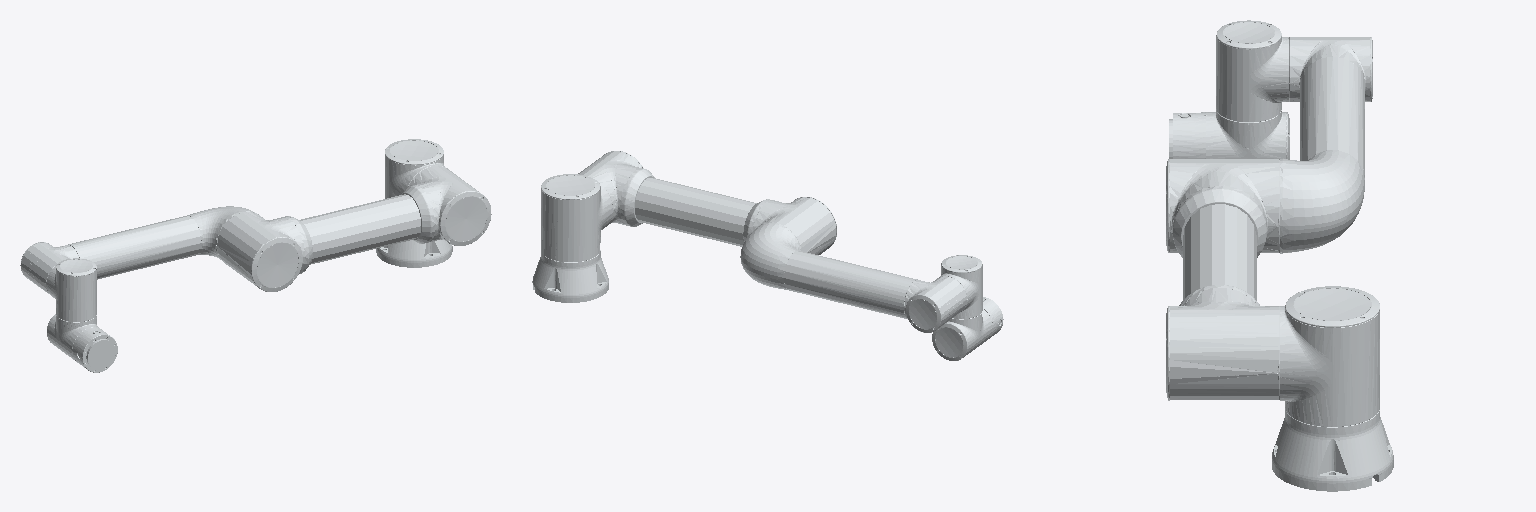
URDF robot description (fairino5_v6_robot):

<!-- This URDF was automatically created by SolidWorks to URDF Exporter! Originally created by [author] ([email redacted]) 
     Commit Version: 1.5.1-0-g916b5db  Build Version: 1.5.7152.31018
     For more information, please see http://wiki.ros.org/sw_urdf_exporter -->
<robot
  name="fairino5_v6_robot">
  <link
    name="base_link">
    <inertial>
      <origin
        xyz="-0.00031896 -0.00029673 0.042463"
        rpy="0 0 0" />
      <mass
        value="1.6185" />
      <inertia
        ixx="0.0030836"
        ixy="1.5354E-05"
        ixz="-1.9315E-05"
        iyy="0.0030825"
        iyz="-1.7918E-05"
        izz="0.0045209" />
    </inertial>
    <visual>
      <origin
        xyz="0 0 0"
        rpy="0 0 0" />
      <geometry>
        <mesh
          filename="package://fairino_description/meshes/fairino5_v6/base_link.STL" />
      </geometry>
      <material
        name="">
        <color
          rgba="0.89804 0.91765 0.92941 1" />
      </material>
    </visual>
    <collision>
      <origin
        xyz="0 0 0"
        rpy="0 0 0" />
      <geometry>
        <mesh
          filename="package://fairino_description/meshes/fairino5_v6/base_link.STL" />
      </geometry>
    </collision>
  </link>
  <link
    name="shoulder_link">
    <inertial>
      <origin
        xyz="5.0029E-07 -0.0040922 0.14629"
        rpy="0 0 0" />
      <mass
        value="4.3771" />
      <inertia
        ixx="0.010731"
        ixy="-8.0587E-09"
        ixz="-3.6773E-08"
        iyy="0.010408"
        iyz="0.00012853"
        izz="0.0081793" />
    </inertial>
    <visual>
      <origin
        xyz="0 0 0"
        rpy="0 0 0" />
      <geometry>
        <mesh
          filename="package://fairino_description/meshes/fairino5_v6/shoulder_link.STL" />
      </geometry>
      <material
        name="">
        <color
          rgba="0.89804 0.91765 0.92941 1" />
      </material>
    </visual>
    <collision>
      <origin
        xyz="0 0 0"
        rpy="0 0 0" />
      <geometry>
        <mesh
          filename="package://fairino_description/meshes/fairino5_v6/shoulder_link.STL" />
      </geometry>
    </collision>
  </link>
  <joint
    name="j1"
    type="revolute">
    <origin
      xyz="0 0 0"
      rpy="0 0 0" />
    <parent
      link="base_link" />
    <child
      link="shoulder_link" />
    <axis
      xyz="0 0 1" />
    <limit
      lower="-3.0543"
      upper="3.0543"
      effort="150"
      velocity="3.15" />
    <calibration
      rising="0"
      falling="0" />
    <dynamics
      damping="0"
      friction="0" />
    <safety_controller
      soft_lower_limit="-3.0543"
      soft_upper_limit="3.0543"
      k_position="15"
      k_velocity="10" />
  </joint>
  <link
    name="upperarm_link">
    <inertial>
      <origin
        xyz="-0.2125 -5.7643E-09 0.1346"
        rpy="0 0 0" />
      <mass
        value="14.458" />
      <inertia
        ixx="0.028392"
        ixy="-1.337E-07"
        ixz="-3.9895E-09"
        iyy="0.4559"
        iyz="4.214E-08"
        izz="0.44974" />
    </inertial>
    <visual>
      <origin
        xyz="0 0 0"
        rpy="0 0 0" />
      <geometry>
        <mesh
          filename="package://fairino_description/meshes/fairino5_v6/upperarm_link.STL" />
      </geometry>
      <material
        name="">
        <color
          rgba="0.89804 0.91765 0.92941 1" />
      </material>
    </visual>
    <collision>
      <origin
        xyz="0 0 0"
        rpy="0 0 0" />
      <geometry>
        <mesh
          filename="package://fairino_description/meshes/fairino5_v6/upperarm_link.STL" />
      </geometry>
    </collision>
  </link>
  <joint
    name="j2"
    type="revolute">
    <origin
      xyz="0 0 0.152"
      rpy="1.5708 0 0" />
    <parent
      link="shoulder_link" />
    <child
      link="upperarm_link" />
    <axis
      xyz="0 0 1" />
    <limit
      lower="-4.6251"
      upper="1.4835"
      effort="150"
      velocity="3.15" />
    <calibration
      rising="0"
      falling="0" />
    <dynamics
      damping="0"
      friction="0" />
    <safety_controller
      soft_lower_limit="-4.6251"
      soft_upper_limit="1.4835"
      k_position="15"
      k_velocity="10" />
  </joint>
  <link
    name="forearm_link">
    <inertial>
      <origin
        xyz="-0.18793 -8.4503E-07 0.0066357"
        rpy="0 0 0" />
      <mass
        value="7.6737" />
      <inertia
        ixx="0.0085096"
        ixy="2.1613E-06"
        ixz="-0.0068678"
        iyy="0.16971"
        iyz="3.7086E-08"
        izz="0.16854" />
    </inertial>
    <visual>
      <origin
        xyz="0 0 0"
        rpy="0 0 0" />
      <geometry>
        <mesh
          filename="package://fairino_description/meshes/fairino5_v6/forearm_link.STL" />
      </geometry>
      <material
        name="">
        <color
          rgba="0.89804 0.91765 0.92941 1" />
      </material>
    </visual>
    <collision>
      <origin
        xyz="0 0 0"
        rpy="0 0 0" />
      <geometry>
        <mesh
          filename="package://fairino_description/meshes/fairino5_v6/forearm_link.STL" />
      </geometry>
    </collision>
  </link>
  <joint
    name="j3"
    type="revolute">
    <origin
      xyz="-0.425 0 0"
      rpy="0 0 0" />
    <parent
      link="upperarm_link" />
    <child
      link="forearm_link" />
    <axis
      xyz="0 0 1" />
    <limit
      lower="-2.8274"
      upper="2.8274"
      effort="150"
      velocity="3.15" />
    <calibration
      rising="0"
      falling="0" />
    <dynamics
      damping="0"
      friction="0" />
    <safety_controller
      soft_lower_limit="-2.8274"
      soft_upper_limit="2.8274"
      k_position="15"
      k_velocity="10" />
  </joint>
  <link
    name="wrist1_link">
    <inertial>
      <origin
        xyz="4.98E-07 -0.003754 0.097155"
        rpy="0 0 0" />
      <mass
        value="1.6266" />
      <inertia
        ixx="0.00216"
        ixy="4.888E-09"
        ixz="3.1528E-08"
        iyy="0.0015455"
        iyz="3.7678E-05"
        izz="0.0019902" />
    </inertial>
    <visual>
      <origin
        xyz="0 0 0"
        rpy="0 0 0" />
      <geometry>
        <mesh
          filename="package://fairino_description/meshes/fairino5_v6/wrist1_link.STL" />
      </geometry>
      <material
        name="">
        <color
          rgba="0.89804 0.91765 0.92941 1" />
      </material>
    </visual>
    <collision>
      <origin
        xyz="0 0 0"
        rpy="0 0 0" />
      <geometry>
        <mesh
          filename="package://fairino_description/meshes/fairino5_v6/wrist1_link.STL" />
      </geometry>
    </collision>
  </link>
  <joint
    name="j4"
    type="revolute">
    <origin
      xyz="-0.39501 0 0"
      rpy="0 0 0" />
    <parent
      link="forearm_link" />
    <child
      link="wrist1_link" />
    <axis
      xyz="0 0 1" />
    <limit
      lower="-4.6251"
      upper="1.4835"
      effort="28"
      velocity="3.2" />
    <calibration
      rising="0"
      falling="0" />
    <dynamics
      damping="0"
      friction="0" />
    <safety_controller
      soft_lower_limit="-4.6251"
      soft_upper_limit="1.4835"
      k_position="15"
      k_velocity="10" />
  </joint>
  <link
    name="wrist2_link">
    <inertial>
      <origin
        xyz="-4.5588E-07 0.0038617 0.098257"
        rpy="0 0 0" />
      <mass
        value="1.5812" />
      <inertia
        ixx="0.0020612"
        ixy="8.7064E-09"
        ixz="-3.4742E-08"
        iyy="0.0014477"
        iyz="-2.8534E-05"
        izz="0.0019573" />
    </inertial>
    <visual>
      <origin
        xyz="0 0 0"
        rpy="0 0 0" />
      <geometry>
        <mesh
          filename="package://fairino_description/meshes/fairino5_v6/wrist2_link.STL" />
      </geometry>
      <material
        name="">
        <color
          rgba="0.89804 0.91765 0.92941 1" />
      </material>
    </visual>
    <collision>
      <origins
        xyz="0 0 0"
        rpy="0 0 0" />
      <geometry>
        <mesh
          filename="package://fairino_description/meshes/fairino5_v6/wrist2_link.STL" />
      </geometry>
    </collision>
  </link>
  <joint
    name="j5"
    type="revolute">
    <origin
      xyz="0 0 0.1021"
      rpy="1.5708 0 0" />
    <parent
      link="wrist1_link" />
    <child
      link="wrist2_link" />
    <axis
      xyz="0 0 1" />
    <limit
      lower="-3.0543"
      upper="3.0543"
      effort="28"
      velocity="3.2" />
    <calibration
      rising="0"
      falling="0" />
    <dynamics
      damping="0"
      friction="0" />
    <safety_controller
      soft_lower_limit="-3.0543"
      soft_upper_limit="3.0543"
      k_position="15"
      k_velocity="10" />
  </joint>
  <link
    name="wrist3_link">
    <inertial>
      <origin
        xyz="7.7496E-05 1.7751E-05 0.076122"
        rpy="0 0 0" />
      <mass
        value="0.52542" />
      <inertia
        ixx="0.00027721"
        ixy="-1.8677E-09"
        ixz="-1.188E-07"
        iyy="0.00027839"
        iyz="2.2607E-07"
        izz="0.00041605" />
    </inertial>
    <visual>
      <origin
        xyz="0 0 0"
        rpy="0 0 0" />
      <geometry>
        <mesh
          filename="package://fairino_description/meshes/fairino5_v6/wrist3_link.STL" />
      </geometry>
      <material
        name="">
        <color
          rgba="0.89804 0.91765 0.92941 1" />
      </material>
    </visual>
    <collision>
      <origin
        xyz="0 0 0"
        rpy="0 0 0" />
      <geometry>
        <mesh
          filename="package://fairino_description/meshes/fairino5_v6/wrist3_link.STL" />
      </geometry>
    </collision>
  </link>
  <joint
    name="j6"
    type="revolute">
    <origin
      xyz="0 0 0.102"
      rpy="-1.5708 0 0" />
    <parent
      link="wrist2_link" />
    <child
      link="wrist3_link" />
    <axis
      xyz="0 0 1" />
    <limit
      lower="-3.0543"
      upper="3.0543"
      effort="28"
      velocity="3.2" />
    <calibration
      rising="0"
      falling="0" />
    <dynamics
      damping="0"
      friction="0" />
    <safety_controller
      soft_lower_limit="-3.0543"
      soft_upper_limit="3.0543"
      k_position="15"
      k_velocity="10" />
  </joint>
  <link
    name="Guider">
    <visual>
      <origin
        xyz="0 0.1 -0.19"
        rpy="0 0 0" />
      <geometry>
        <mesh
          filename="package://fairino_description/meshes/fairino5_v6/Guider.STL" />
      </geometry>
      <material
        name="">
        <color
          rgba="0.89804 0.91765 0.92941 1" />
      </material>
    </visual>
    <collision>
      <origin
        xyz="0 0.1 -0.19"
        rpy="0 0 0" />
      <geometry>
        <mesh
          filename="package://fairino_description/meshes/fairino5_v6/Guider.STL" />
      </geometry>
    </collision>
  </link>
  <joint
    name="connector"
    type="fixed">
    <origin
      xyz="0 -0.1 0.19"
      rpy="0 0 0" />
    <axis
      xyz="0 0 1" />
    <parent
      link="wrist3_link" />
    <child
      link="Guider" />
    <calibration
      rising="0"
      falling="0" />
  </joint>
</robot>

--- Facts derived from the render (not from the file) ---
3 views of the same robot in one strip: view 1: azimuth 30°, elevation 25°; view 2: azimuth 150°, elevation 25°; view 3: azimuth 270°, elevation 25° (orthographic).
Model fairino5_v6_robot with 8 links and 7 joints (6 revolute, 1 fixed), rooted at base_link, posed every joint at zero.
Visible links, largest first — view 1: upperarm_link, forearm_link, wrist1_link, shoulder_link, base_link, wrist3_link, wrist2_link; view 2: upperarm_link, forearm_link, shoulder_link, base_link, wrist2_link, wrist1_link; view 3: upperarm_link, forearm_link, shoulder_link, base_link, wrist1_link, wrist2_link, wrist3_link.
Link boxes in pixels (bbox=[...]): upperarm_link: bbox=[217, 166, 491, 291]; forearm_link: bbox=[20, 206, 258, 293]; wrist1_link: bbox=[46, 258, 96, 321]; shoulder_link: bbox=[385, 139, 447, 198]; base_link: bbox=[376, 240, 452, 267]; wrist3_link: bbox=[72, 327, 117, 372]; wrist2_link: bbox=[47, 314, 98, 360]; upperarm_link: bbox=[578, 151, 836, 254]; forearm_link: bbox=[740, 222, 966, 332]; shoulder_link: bbox=[541, 174, 612, 261]; base_link: bbox=[532, 250, 608, 302]; wrist2_link: bbox=[932, 309, 992, 360]; wrist1_link: bbox=[939, 255, 982, 318]; upperarm_link: bbox=[1166, 159, 1279, 400]; forearm_link: bbox=[1280, 37, 1372, 253]; shoulder_link: bbox=[1280, 286, 1379, 426]; base_link: bbox=[1272, 408, 1393, 491]; wrist1_link: bbox=[1216, 20, 1288, 121]; wrist2_link: bbox=[1206, 109, 1289, 159]; wrist3_link: bbox=[1169, 112, 1205, 158].
Bounding box of the posed robot: 0.9345 × 0.2779 × 0.2174 m (x, y, z).
Meshes: 8 distinct files referenced, 7 mesh visuals loaded (7 binary STL); not drawn: 1 (reference not matched to a file when rendering).